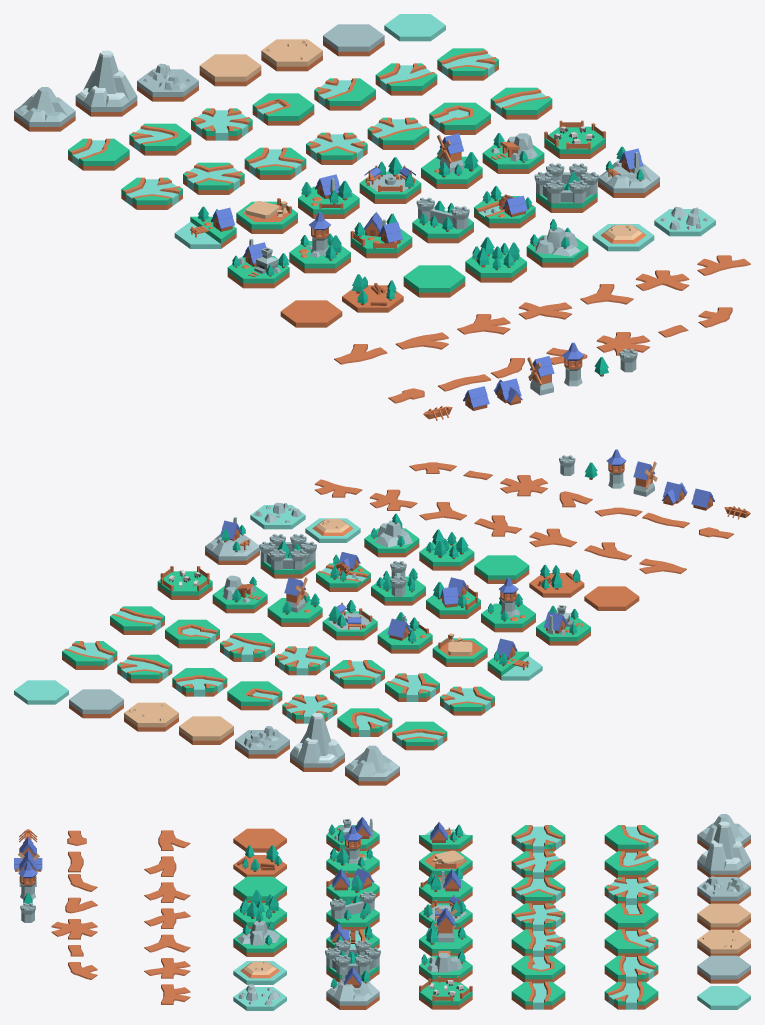
File: Hex Kit.glb
The picture shows the model from 3 angles, top to bottom: view 1: azimuth 30°, elevation 25°; view 2: azimuth 150°, elevation 25°; view 3: azimuth 270°, elevation 25°; orthographic projection. The views are drawn at different scales.
Visible parts, largest first — view 1: rockLarge.001_Mesh.003, sand_Mesh.061, river_end_Mesh.050, grass_Mesh.198, stone_Mesh.068, river_cornerSharp_Mesh.048, river_straight_Mesh.060, river_start_Mesh.059, river_intersectionC_Mesh.053, river_intersectionF_Mesh.056, river_intersectionE_Mesh.055, river_corner_Mesh.047 (+37 smaller); view 2: rockLarge.001_Mesh.003, river_corner_Mesh.047, river_end_Mesh.050, river_start_Mesh.059, stone_Mesh.068, river_intersectionB_Mesh.052, river_intersectionA_Mesh.051, river_cornerSharp_Mesh.048, sand_Mesh.061, sand_rocks_Mesh.062, river_intersectionG_Mesh.057, river_intersectionD_Mesh.054 (+34 smaller); view 3: rockLarge.001_Mesh.003, stone_Mesh.068, river_intersectionC_Mesh.053, river_straight_Mesh.060, river_intersectionD_Mesh.054, river_corner_Mesh.047, river_intersectionB_Mesh.052, river_start_Mesh.059, river_cornerSharp_Mesh.048, river_intersectionE_Mesh.055, river_end_Mesh.050, sand_Mesh.061 (+46 smaller).
Part boxes in pixels (box(x1,y1,x2,y2)): rockLarge.001_Mesh.003: box(76, 50, 136, 106); sand_Mesh.061: box(199, 54, 261, 86); river_end_Mesh.050: box(252, 93, 314, 125); grass_Mesh.198: box(403, 265, 465, 297); stone_Mesh.068: box(323, 24, 384, 56); river_cornerSharp_Mesh.048: box(129, 123, 191, 155); river_straight_Mesh.060: box(490, 87, 552, 119); river_start_Mesh.059: box(429, 102, 490, 134); river_intersectionC_Mesh.053: box(437, 48, 498, 80); river_intersectionF_Mesh.056: box(244, 147, 306, 179); river_intersectionE_Mesh.055: box(183, 162, 244, 194); river_corner_Mesh.047: box(68, 138, 129, 170); rockLarge.001_Mesh.003: box(290, 713, 344, 763); river_corner_Mesh.047: box(392, 721, 447, 750); river_end_Mesh.050: box(227, 681, 282, 710); river_start_Mesh.059: box(165, 619, 219, 648); stone_Mesh.068: box(69, 689, 123, 718); river_intersectionB_Mesh.052: box(117, 654, 172, 683); river_intersectionA_Mesh.051: box(172, 668, 227, 696); river_cornerSharp_Mesh.048: box(337, 708, 392, 736); sand_Mesh.061: box(179, 716, 233, 744); sand_rocks_Mesh.062: box(124, 702, 178, 731); river_intersectionG_Mesh.057: box(275, 646, 329, 675); river_intersectionD_Mesh.054: box(440, 686, 494, 715); rockLarge.001_Mesh.003: box(697, 821, 750, 870); stone_Mesh.068: box(697, 955, 750, 983); river_intersectionC_Mesh.053: box(604, 981, 658, 1009); river_straight_Mesh.060: box(511, 981, 565, 1009); river_intersectionD_Mesh.054: box(511, 825, 565, 852); river_corner_Mesh.047: box(604, 825, 658, 852); river_intersectionB_Mesh.052: box(604, 955, 658, 983); river_start_Mesh.059: box(511, 955, 565, 983); river_cornerSharp_Mesh.048: box(604, 851, 658, 878); river_intersectionE_Mesh.055: box(511, 851, 565, 878); river_end_Mesh.050: box(604, 903, 658, 930); sand_Mesh.061: box(697, 903, 750, 930).
Size of the model in its own units: 9.16 by 1.09 by 15.88.
